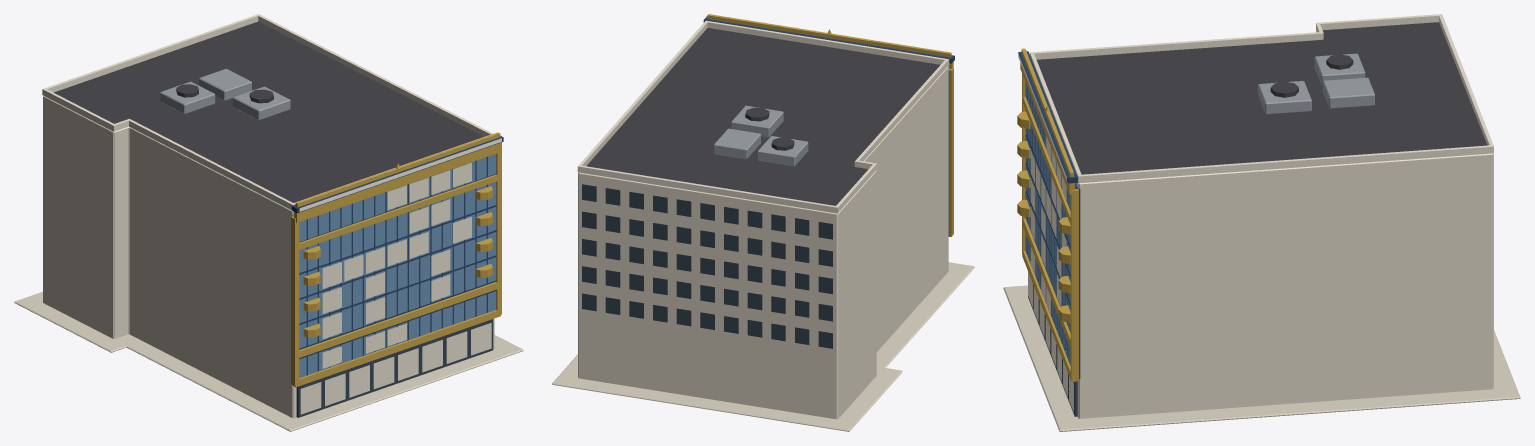
Rendered from 130-150-sutter-street.glb.
The picture shows the model from 3 angles, left to right: view 1: azimuth 30°, elevation 25°; view 2: azimuth 150°, elevation 25°; view 3: azimuth 270°, elevation 25°; orthographic projection. The views are drawn at different scales.
Parts seen in each view (by area): view 1: 130-150-sutter-street_body, 130-150-sutter-street_night_glow; view 2: 130-150-sutter-street_body; view 3: 130-150-sutter-street_body, 130-150-sutter-street_night_glow.
Boxes of the visible parts, x1,y1,x2,y2 form: 130-150-sutter-street_body: (14, 14, 523, 431); 130-150-sutter-street_night_glow: (299, 138, 501, 414); 130-150-sutter-street_body: (552, 14, 974, 431); 130-150-sutter-street_body: (1003, 14, 1520, 431); 130-150-sutter-street_night_glow: (1018, 53, 1073, 412).
Size of the model in its own units: 47.19 by 30.3 by 55.76.
